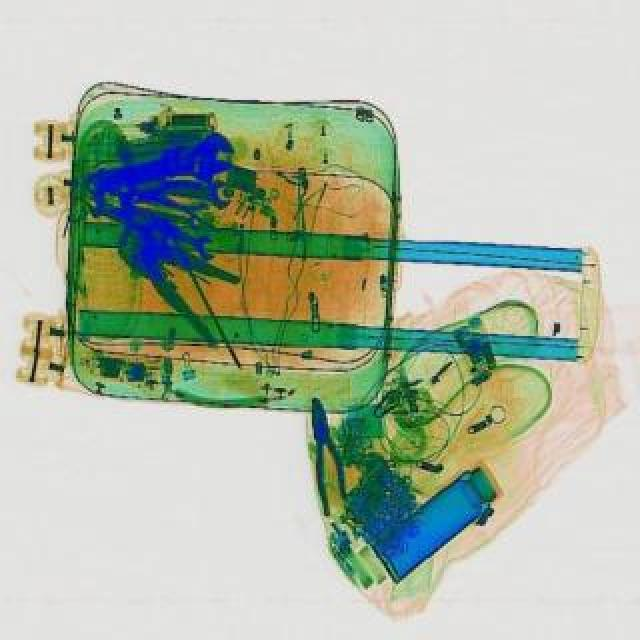scissors: (82, 128, 242, 204), (124, 198, 228, 260)
wrench: (90, 214, 258, 346), (304, 392, 358, 512)
